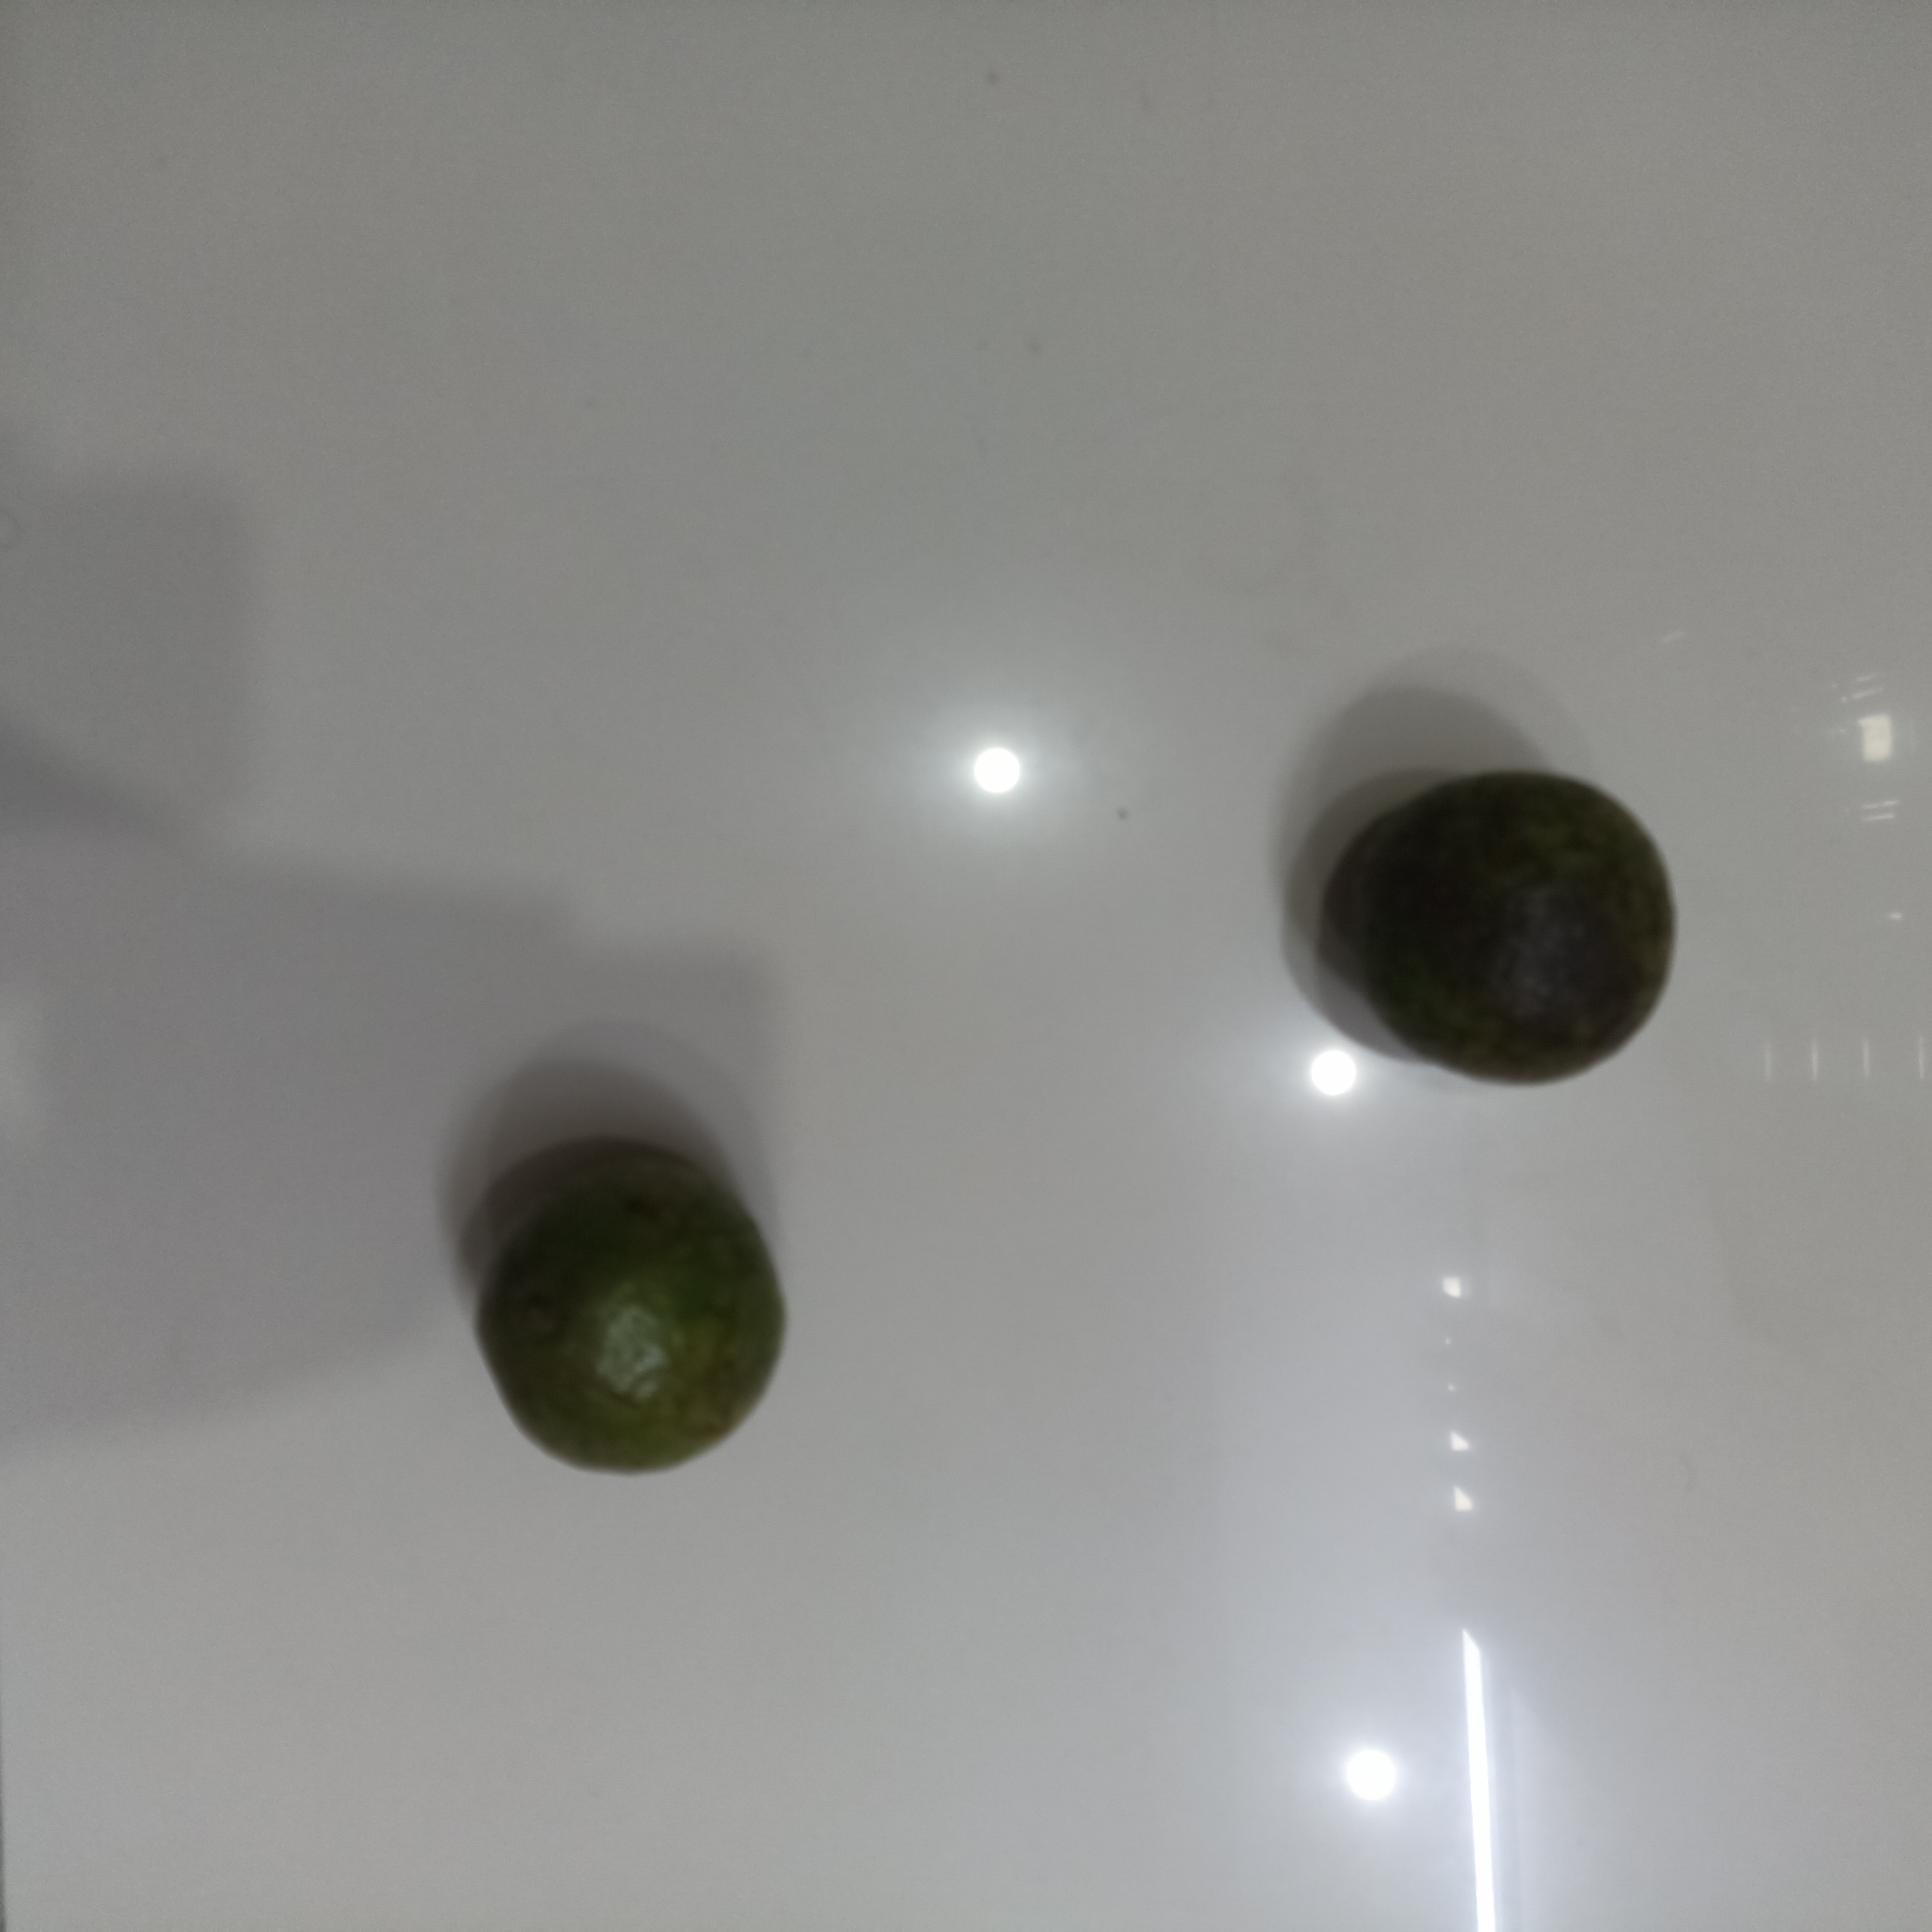Bo: (1329, 773, 1674, 1088), (478, 1159, 787, 1484)
